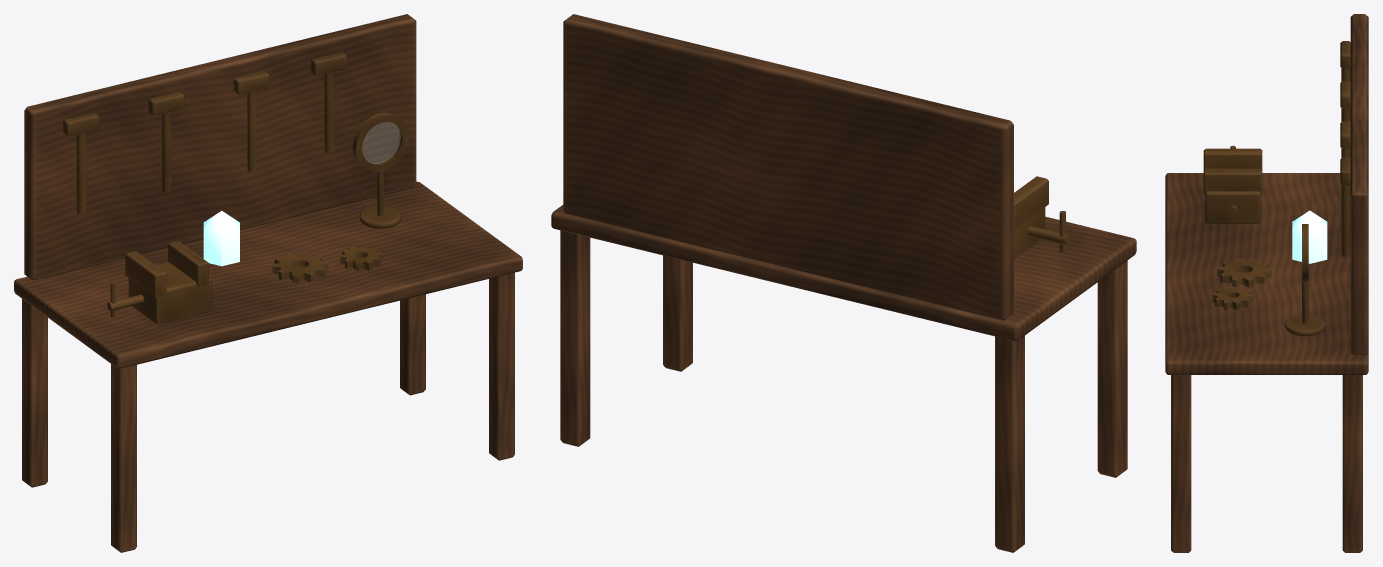
Rendered from Furn_Tool_Workbench.fbx.
3 views of the same model, side by side, from view 1: azimuth 30°, elevation 25°; view 2: azimuth 150°, elevation 25°; view 3: azimuth 270°, elevation 25° (orthographic). The views are drawn at different scales.
Visible parts, largest first — view 1: Furn_Tool_Workbench; view 2: Furn_Tool_Workbench; view 3: Furn_Tool_Workbench.
Part boxes in pixels (<box>): Furn_Tool_Workbench: <box>14,14,522,552</box>; Furn_Tool_Workbench: <box>551,14,1136,552</box>; Furn_Tool_Workbench: <box>1165,14,1368,552</box>.
Bounding box in the file's own units: 2 × 1.75 × 0.9.
4 materials, 2 textured.
